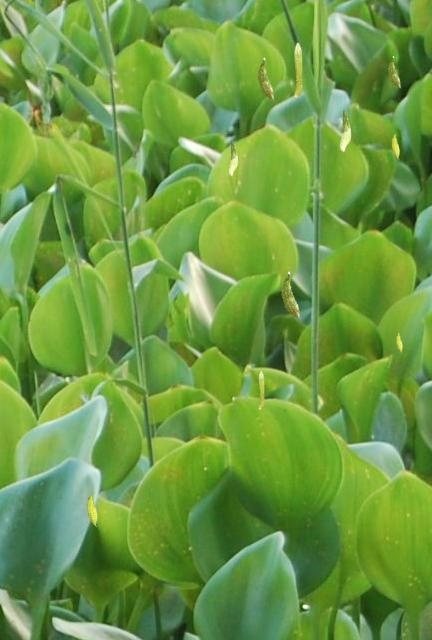ampalaya: (280, 271, 300, 318), (256, 57, 274, 100), (339, 107, 351, 152), (387, 55, 401, 88), (294, 42, 302, 98), (86, 492, 97, 527), (228, 138, 238, 176), (258, 370, 264, 410), (391, 132, 399, 160), (396, 331, 402, 353)
